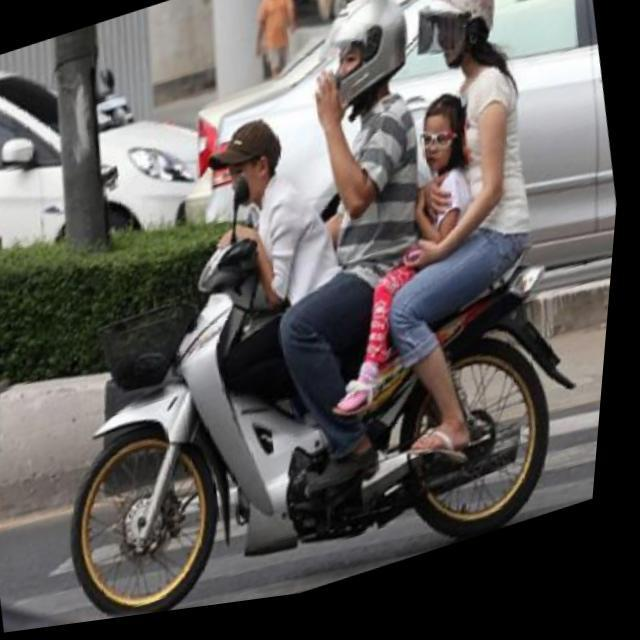Helmet: (311, 0, 414, 103)
Nonhelmet: (201, 111, 287, 185), (417, 96, 473, 179)
